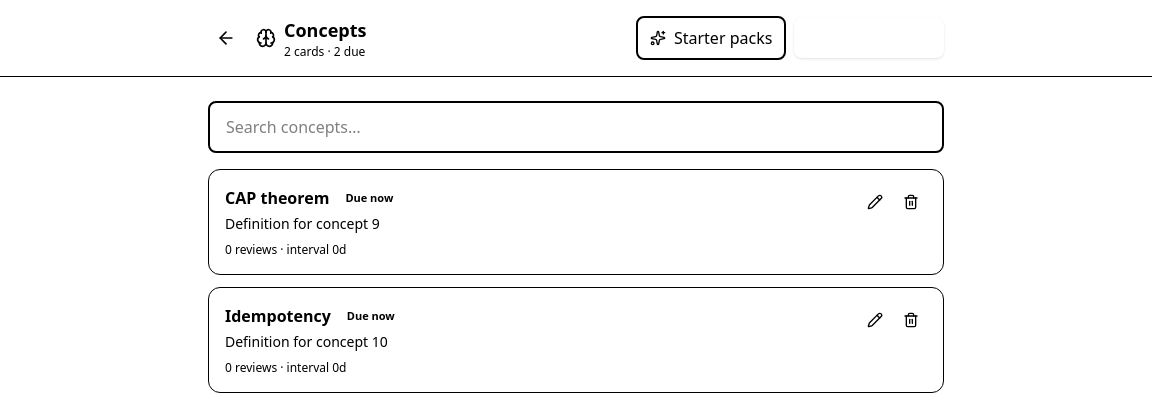
ConceptsPage › matches search on the source field
Type "ddia" into the field labelled "Search concepts". click: (576, 127)
box: 208,101 -> 944,153
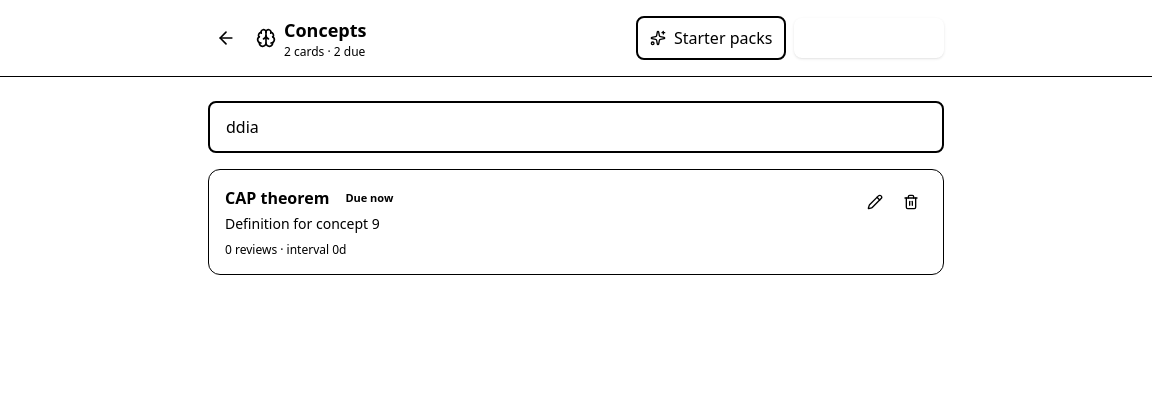
Check: the heading "CAP theorem" is shown, box 225,186 -> 329,210
Check: the heading "Idempotency" is gone
